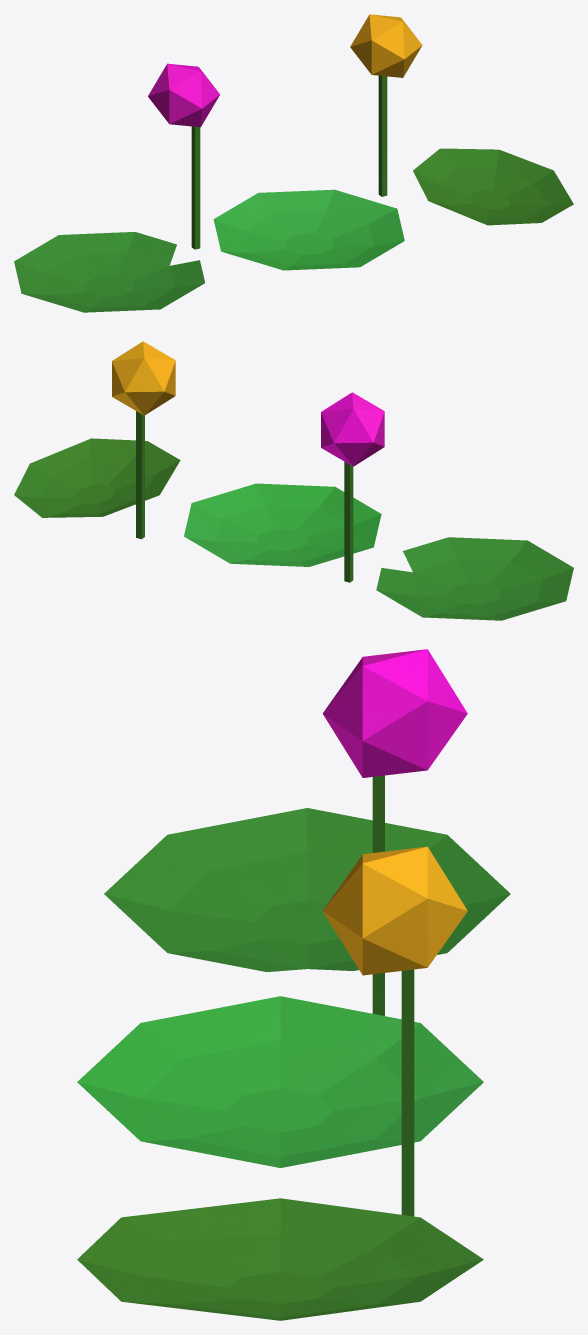
Rendered from Lotus.fbx.
The picture shows the model from 3 angles, top to bottom: view 1: azimuth 30°, elevation 25°; view 2: azimuth 150°, elevation 25°; view 3: azimuth 270°, elevation 25°; orthographic projection. The views are drawn at different scales.
Visible parts, largest first — view 1: Lotus_Leaf_B, Lotus_Leaf_A, Lotus_Leaf_C, Lotus_A, Lotus_B; view 2: Lotus_Leaf_A, Lotus_Leaf_B, Lotus_Leaf_C, Lotus_A, Lotus_B; view 3: Lotus_Leaf_B, Lotus_Leaf_C, Lotus_Leaf_A, Lotus_B, Lotus_A.
Boxes of the visible parts, x1,y1,x2,y2 form: Lotus_Leaf_B: [213, 189, 404, 270]; Lotus_Leaf_A: [14, 232, 204, 312]; Lotus_Leaf_C: [413, 148, 573, 225]; Lotus_A: [148, 63, 219, 249]; Lotus_B: [350, 14, 422, 196]; Lotus_Leaf_A: [376, 537, 573, 620]; Lotus_Leaf_B: [184, 483, 381, 566]; Lotus_Leaf_C: [14, 438, 180, 517]; Lotus_A: [321, 392, 384, 582]; Lotus_B: [112, 341, 175, 539]; Lotus_Leaf_B: [77, 996, 483, 1167]; Lotus_Leaf_C: [77, 1198, 483, 1320]; Lotus_Leaf_A: [104, 808, 510, 971]; Lotus_B: [323, 846, 467, 1216]; Lotus_A: [322, 649, 467, 1015].
Bounding box in the file's own units: 87.52 × 28.54 × 31.29.
Materials: 1 (1 with a texture image).
